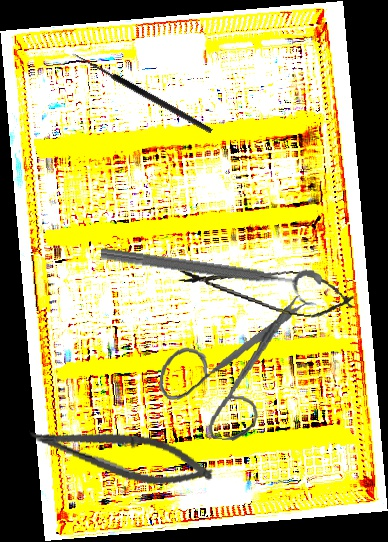Fixation Ring: (97, 240, 323, 310)
Hook Surgical: (67, 50, 214, 141)
Iris Scissors: (154, 281, 308, 447)
Micro Scissor: (23, 417, 218, 495), (175, 255, 358, 324)
